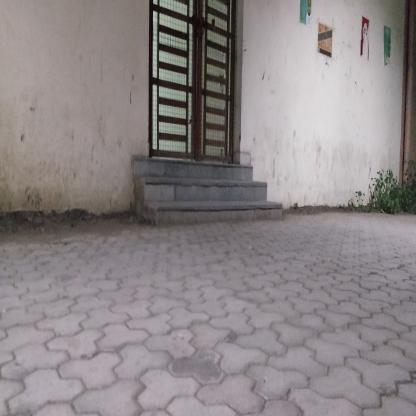stairs: (142, 156, 252, 233)
